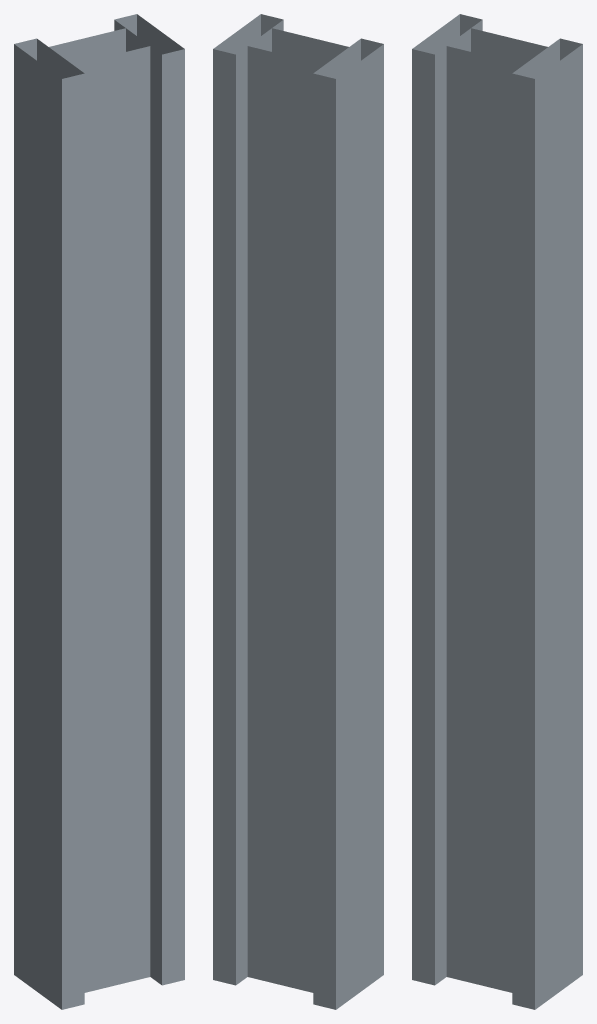
File: SM06_Building_Structure_Column_Flat_Top_02.fbx
The picture shows the model from 3 angles, left to right: view 1: azimuth 30°, elevation 25°; view 2: azimuth 150°, elevation 25°; view 3: azimuth 330°, elevation 25°; orthographic projection.
Visible parts, largest first — view 1: SM06_Building_Structure_Column_Flat_Top_02; view 2: SM06_Building_Structure_Column_Flat_Top_02; view 3: SM06_Building_Structure_Column_Flat_Top_02.
Part boxes in pixels (x1=…): SM06_Building_Structure_Column_Flat_Top_02: x1=14, y1=14, x2=184, y2=1009; SM06_Building_Structure_Column_Flat_Top_02: x1=213, y1=14, x2=383, y2=1009; SM06_Building_Structure_Column_Flat_Top_02: x1=412, y1=14, x2=582, y2=1009.
Bounding box in the file's own units: 0.59 × 4.27 × 0.3976.
